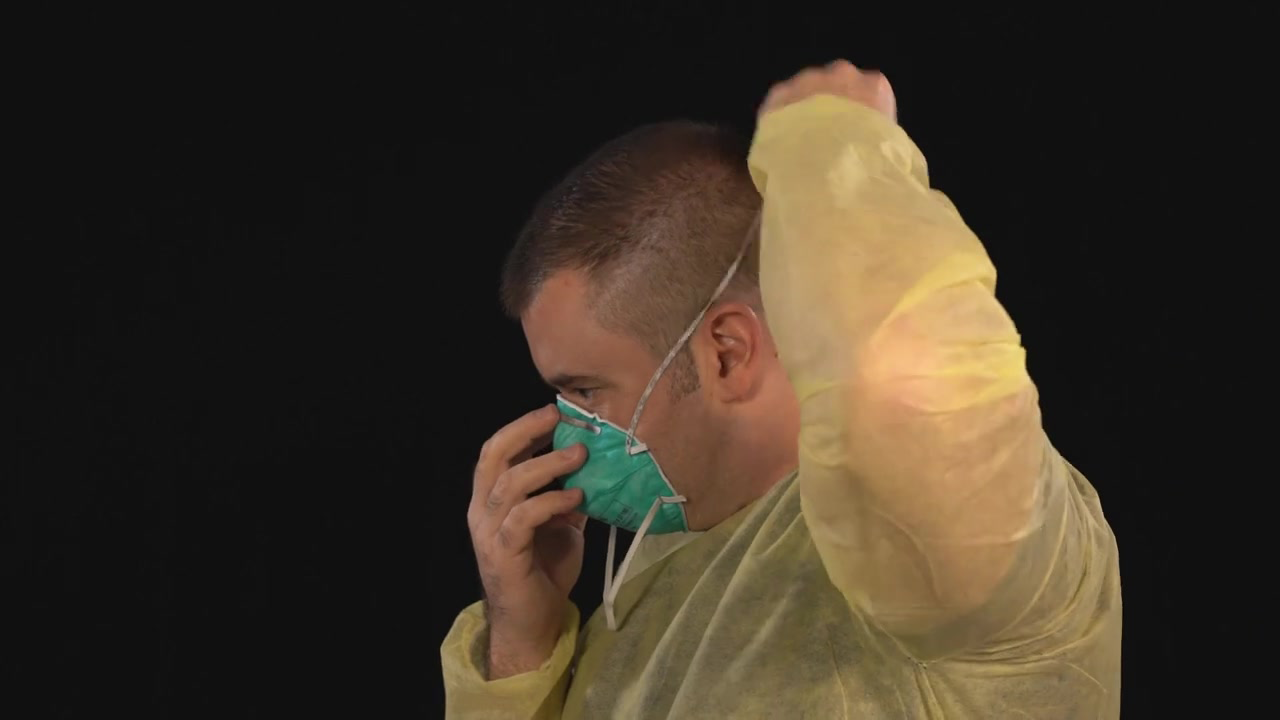Coverall: (440, 109, 1125, 720)
with_mask: (529, 373, 684, 555)
